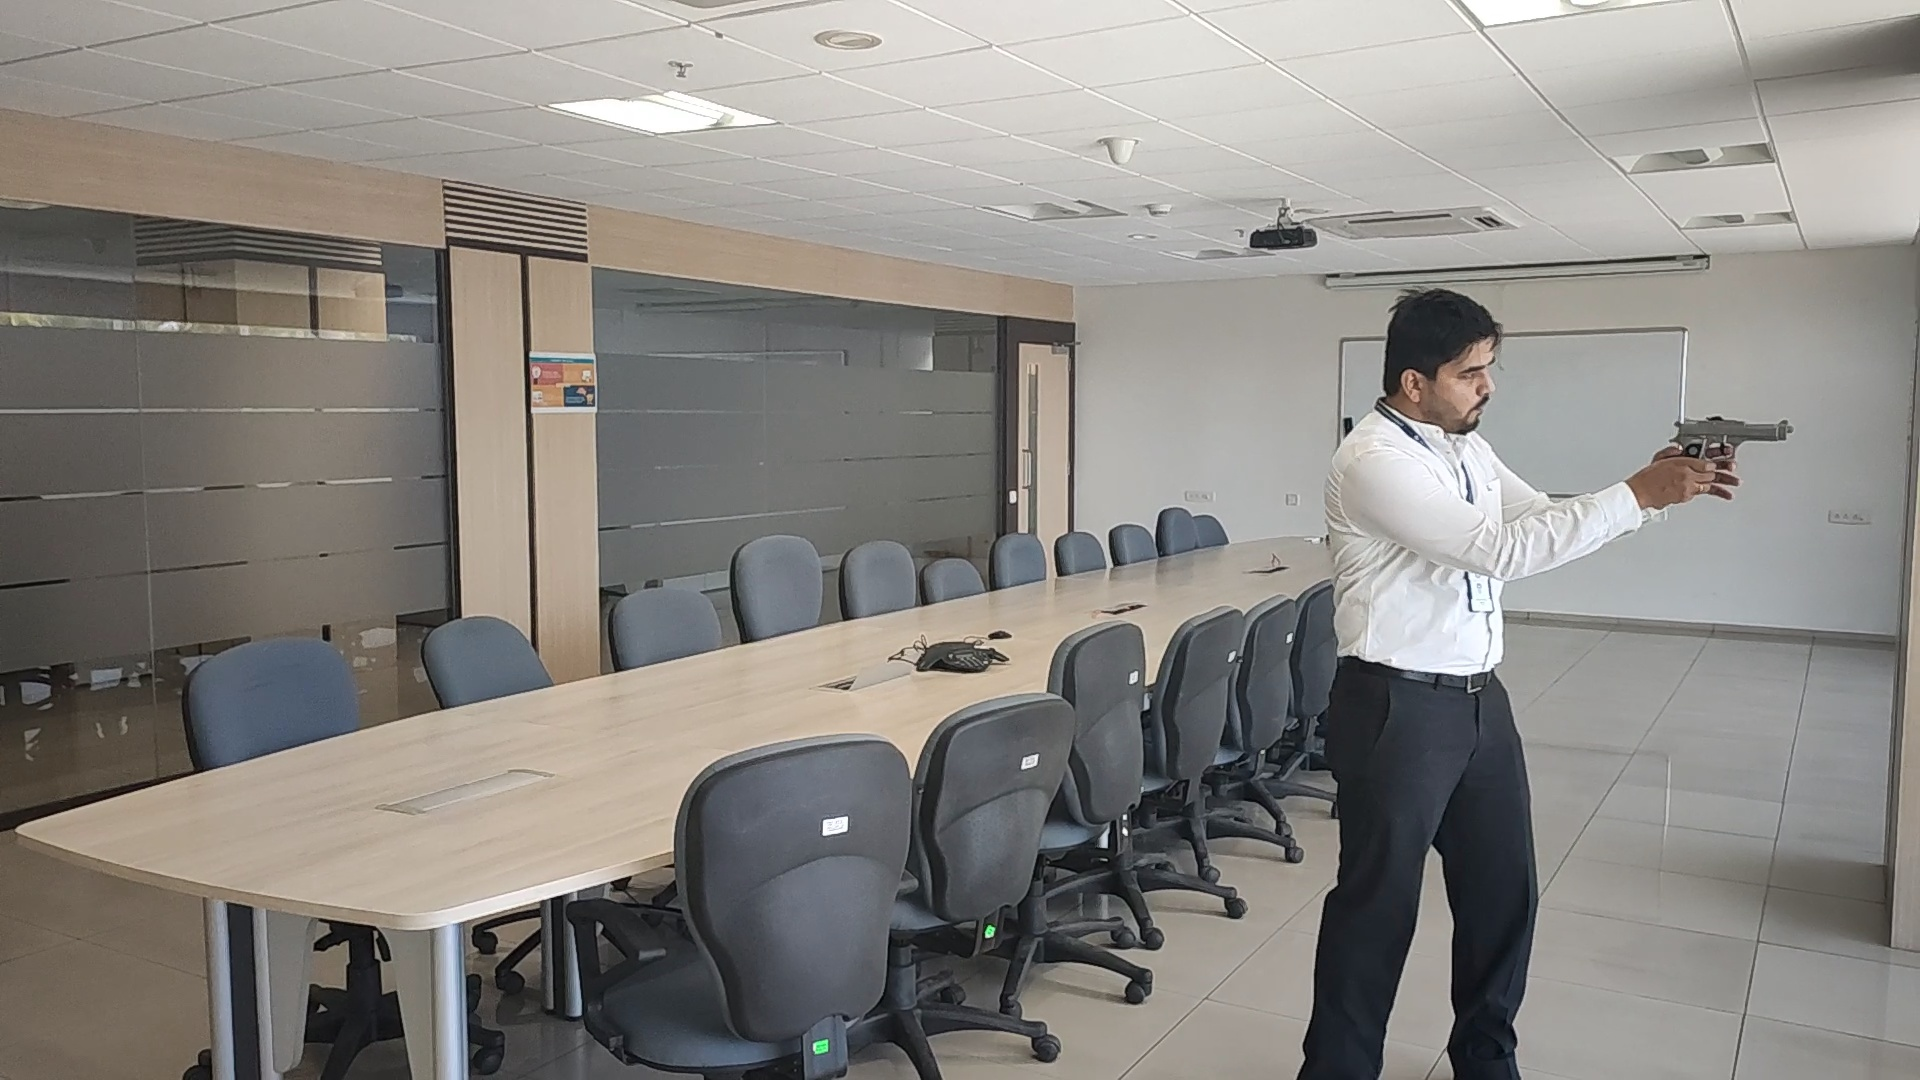gun: (1667, 414, 1795, 459)
